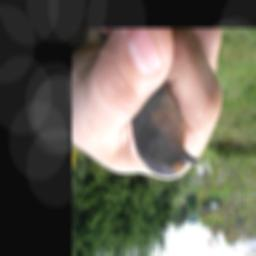Swallow: (129, 81, 201, 180)
